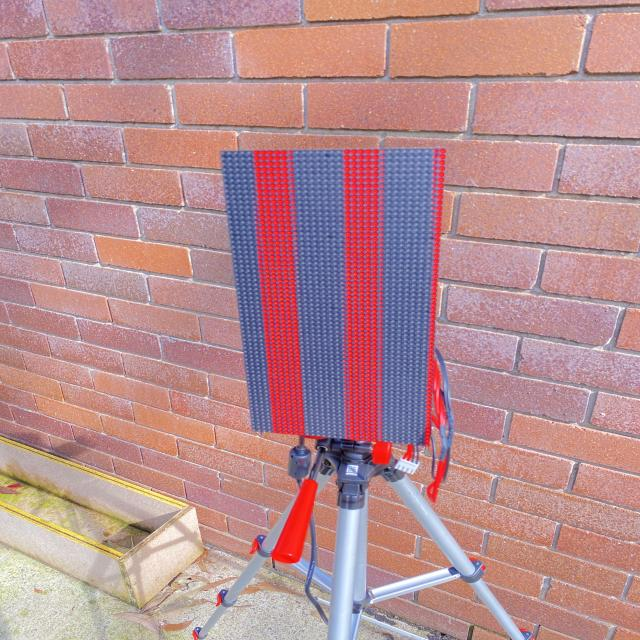matrix: (200, 138, 505, 446)
